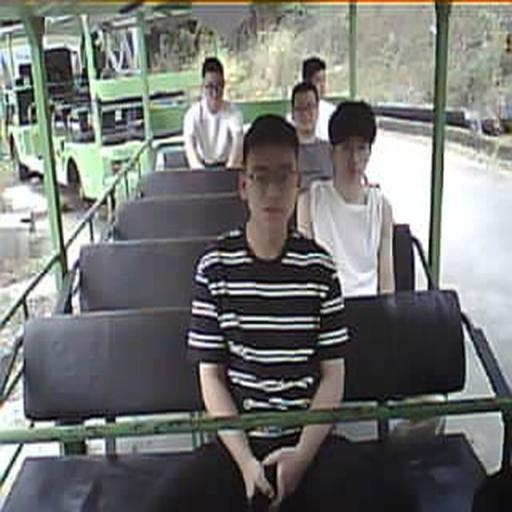persona: (186, 113, 350, 508), (288, 99, 397, 299), (182, 56, 245, 170), (288, 81, 334, 189), (300, 56, 338, 142)
